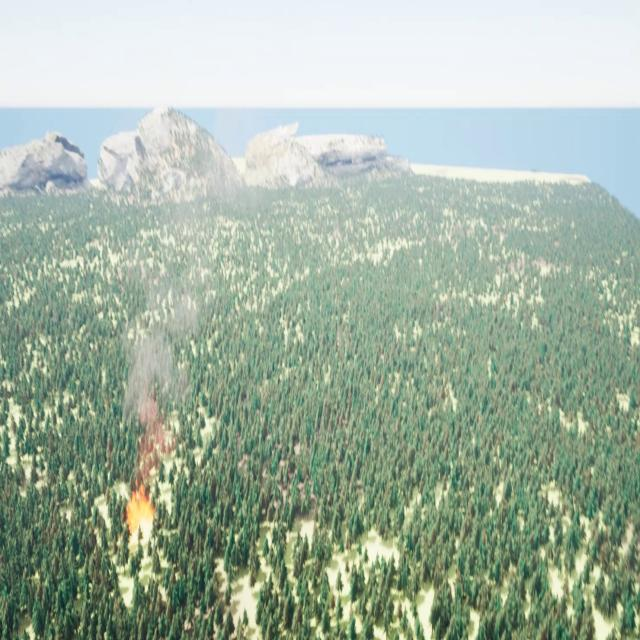fire: (127, 482, 153, 530)
smoke: (123, 240, 204, 472)
